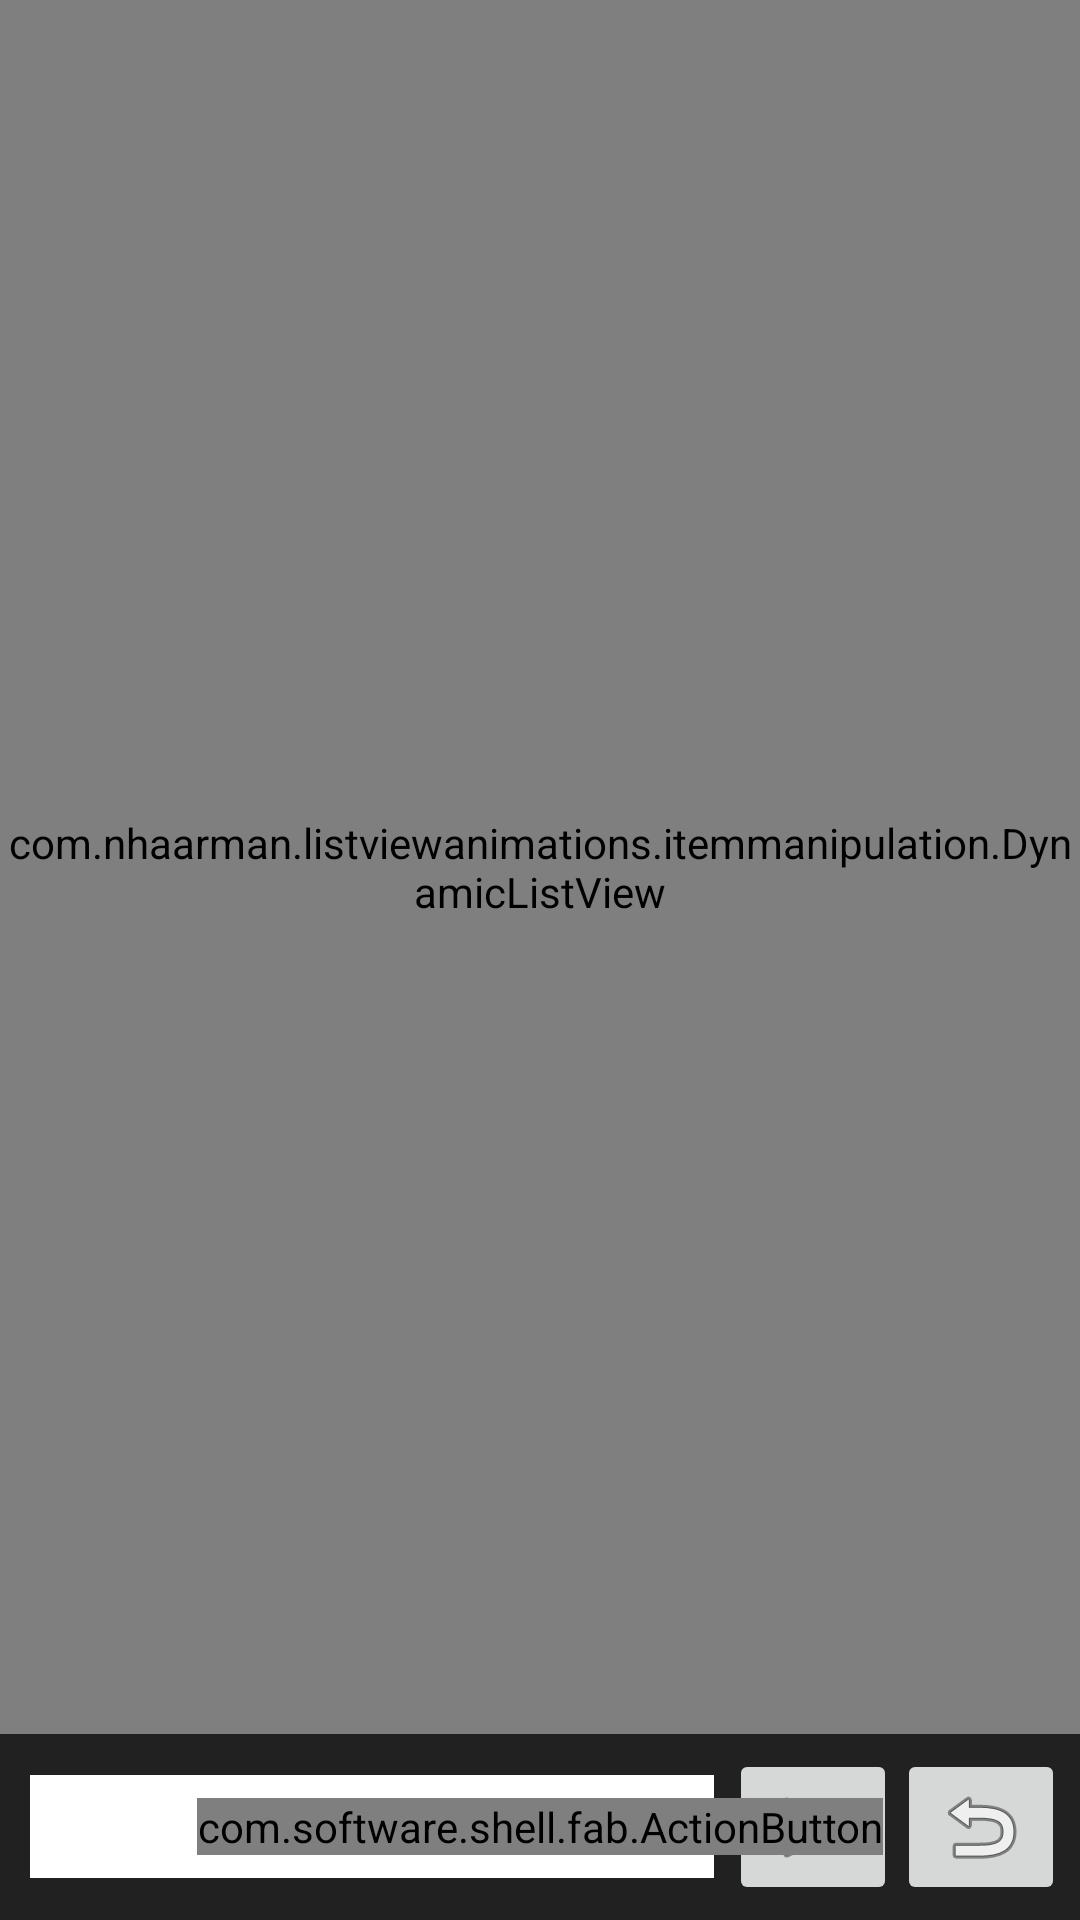

Icons on this 1080*1920 Android screen, each with its box as [x1,y1,x2,y2]:
revert: [909,1767,1053,1887]
